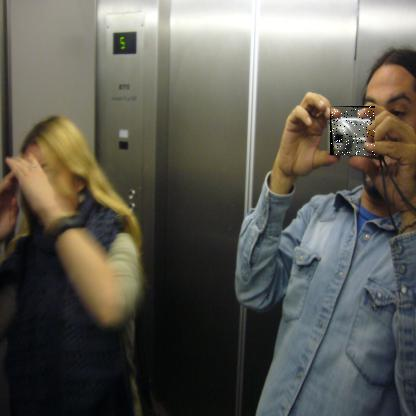Camera: (331, 107, 377, 157)
